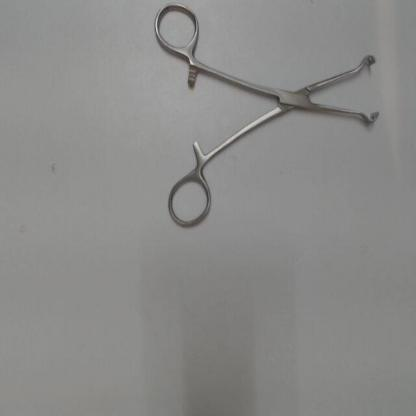Babcock Tissue Forceps: (148, 2, 386, 235)
